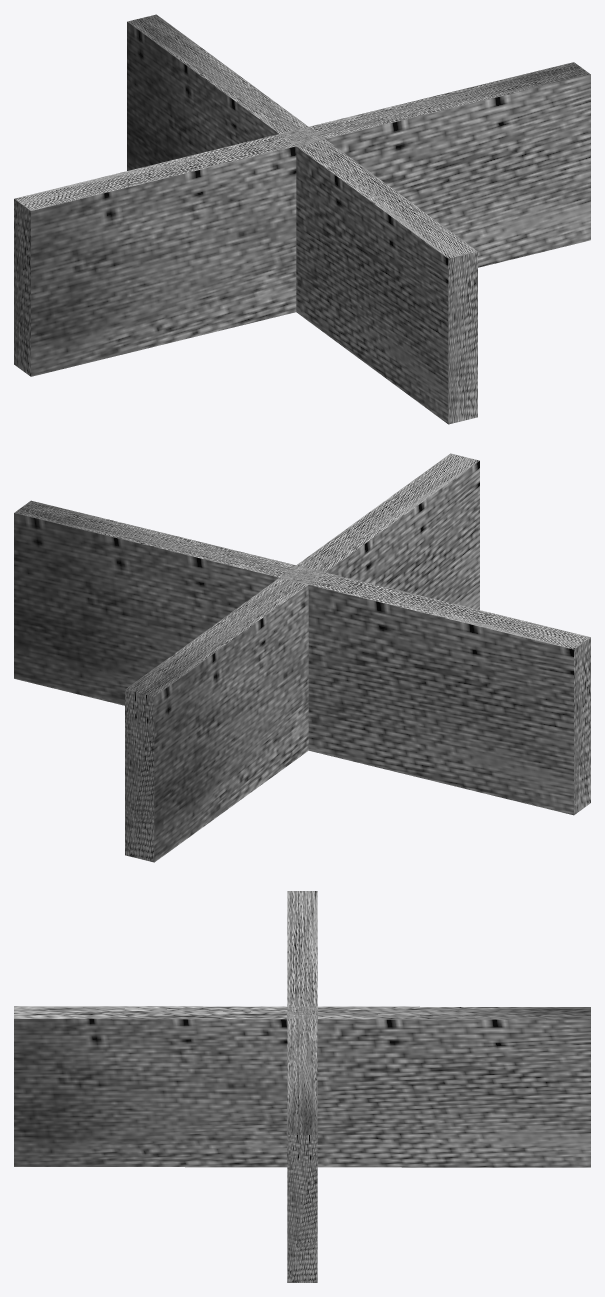
File: wallx.obj
The picture shows the model from 3 angles, top to bottom: view 1: azimuth 30°, elevation 25°; view 2: azimuth 150°, elevation 25°; view 3: azimuth 270°, elevation 25°; orthographic projection. The views are drawn at different scales.
Bounding box in the file's own units: 1.02 × 0.2875 × 1.02.
